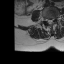CCS_normal: (49, 17, 51, 25)
LFS_normal: (53, 16, 55, 21)
LLS_normal: (51, 17, 52, 24)
RFS_normal: (45, 16, 47, 23)
RLS_normal: (47, 17, 49, 23)
